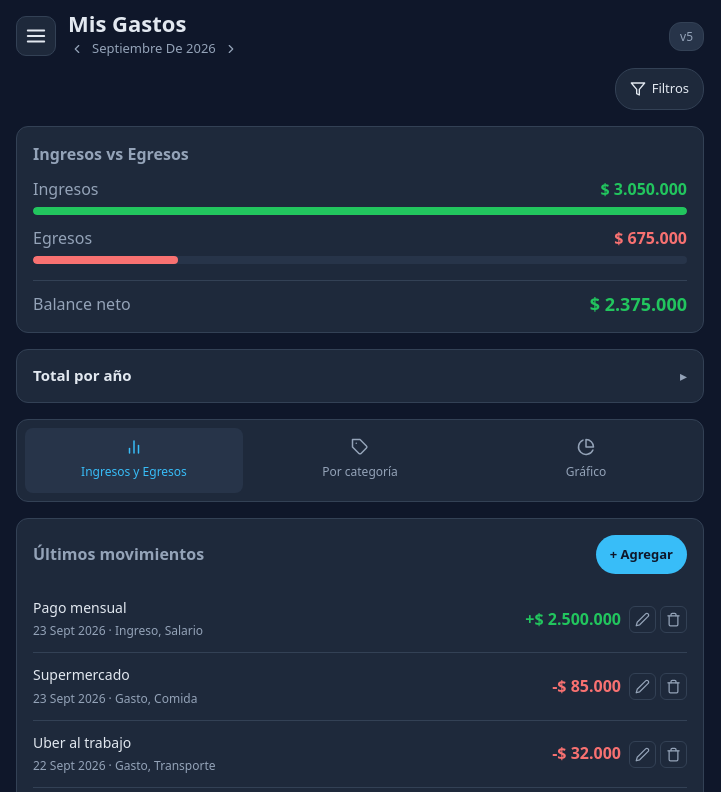
Scenario: Dashboard: agregar/eliminar actualiza las secciones › el panel por categoría muestra Ingreso y Gasto en primera y segunda posición
This screenshot has width=721, height=792.
Expected: the heading "Ingresos vs Egresos" is shown, [33,143,189,165]
Click the button "Por categoría".
click(360, 460)  # box [251,428,469,493]
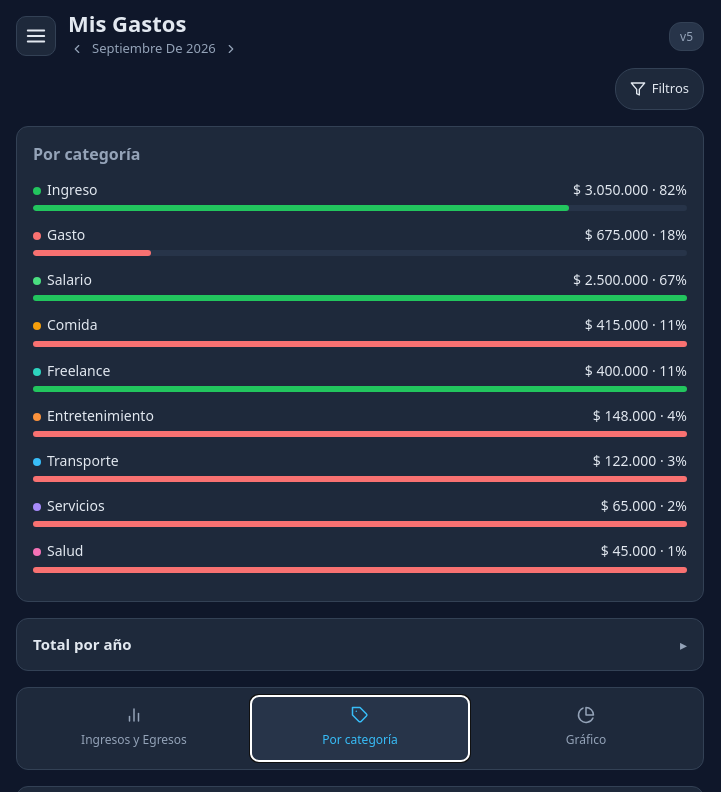
Expected: the text "Ingreso" is shown, [33,178,98,201]
Expected: the text "Gasto" is shown, [33,223,85,246]
